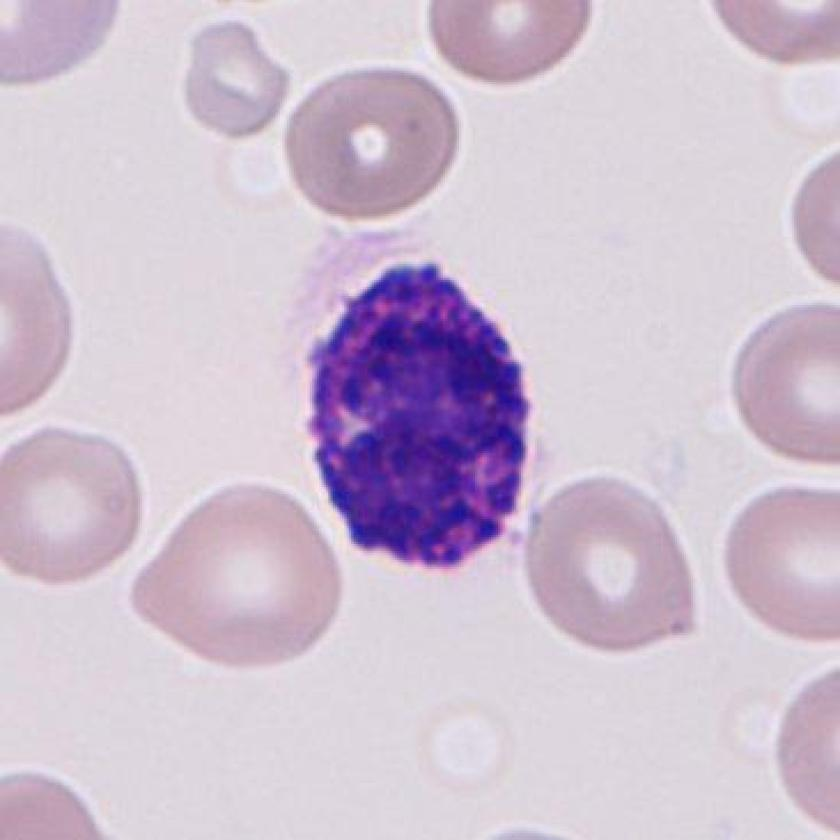basophil: (297, 242, 540, 586)
